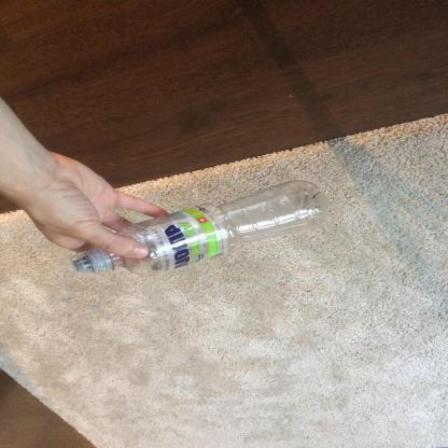Bottle: (71, 181, 330, 277)
